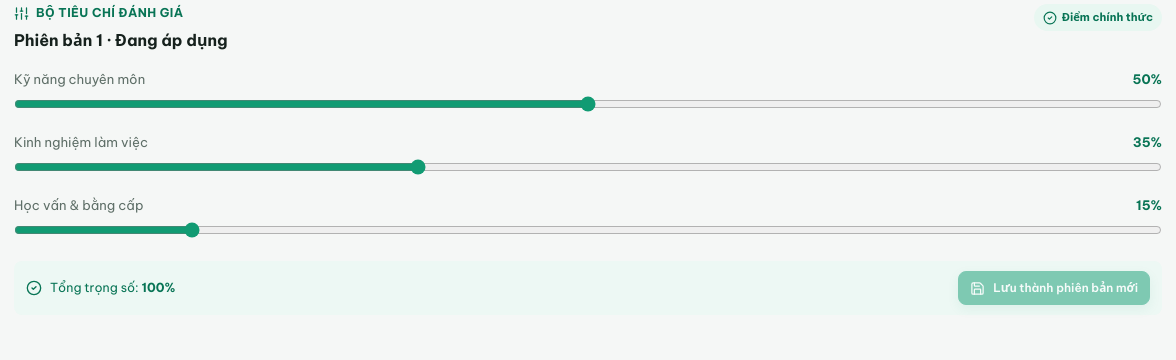
it: CriteriaEditor › labels unsaved weights as a simulation and blocks an invalid total
Expected: the heading "Phiên bản 1 · Đang áp dụng" is shown, [14,28,228,53]
Set the slider labelled "Kỹ năng chuyên môn 50%" to "60" at {"x": 701, "y": 104}, box [14,96,1162,112]
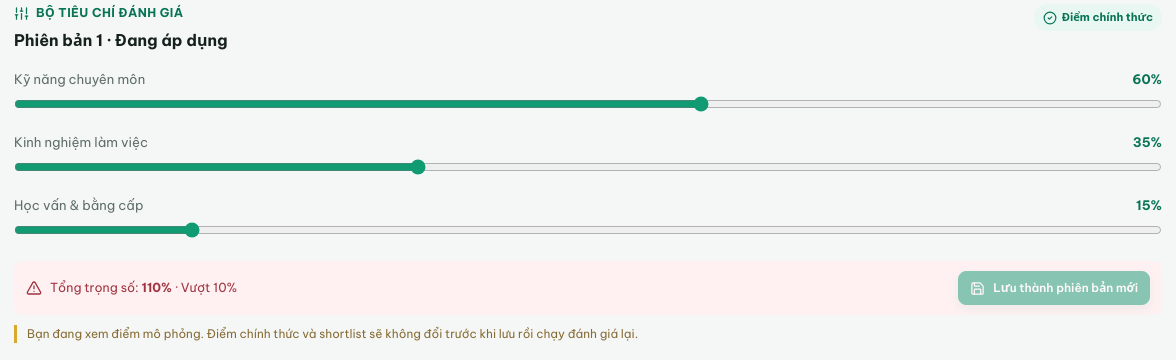
Expected: the button "Lưu thành phiên bản mới" is disabled, [958,271,1150,305]
Expected: the text "điểm mô phỏng" is shown, [27,326,638,341]
Expected: the text "Tổng trọng số: 110% · Vượt 10%" is shown, [50,280,237,295]
